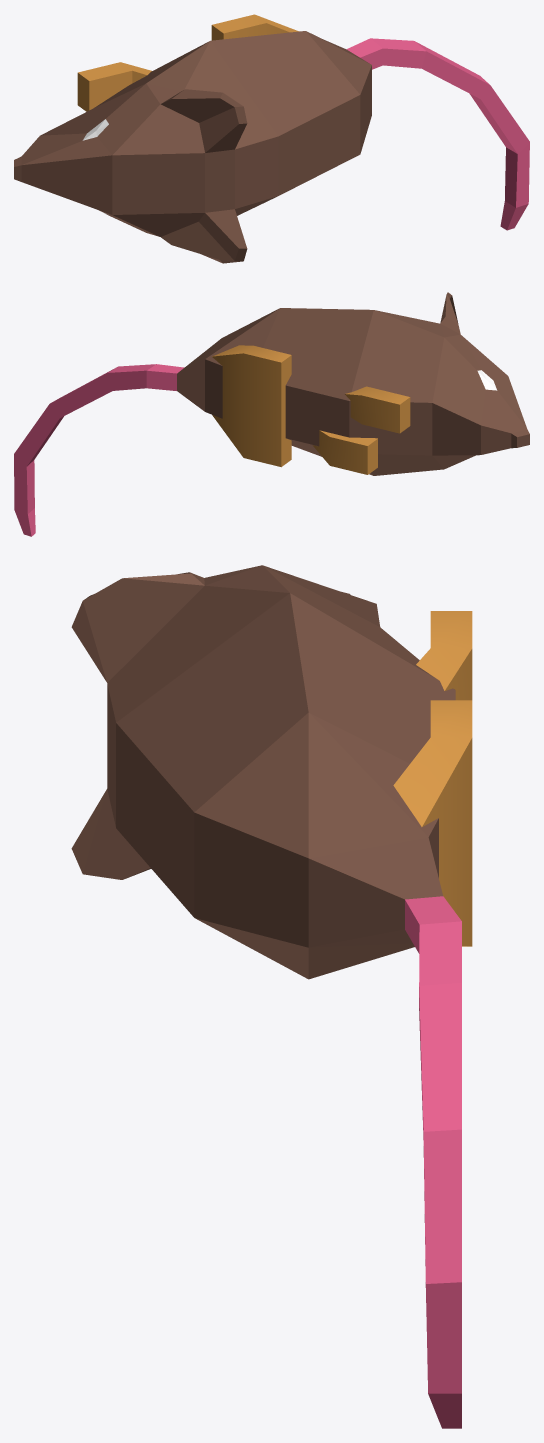
Rendered from cx5OT1s5tZE.glb.
3 views of the same model, one above another, from view 1: azimuth 30°, elevation 25°; view 2: azimuth 150°, elevation 25°; view 3: azimuth 270°, elevation 25° (orthographic). The views are drawn at different scales.
Parts seen in each view (by area): view 1: pCube70; view 2: pCube70; view 3: pCube70.
Part boxes in pixels (x1,y1,x2,y2): pCube70: [14, 14, 529, 263]; pCube70: [14, 292, 529, 536]; pCube70: [71, 565, 472, 1428].
Bounding box in the file's own units: 1.88 × 1 × 0.6761.
